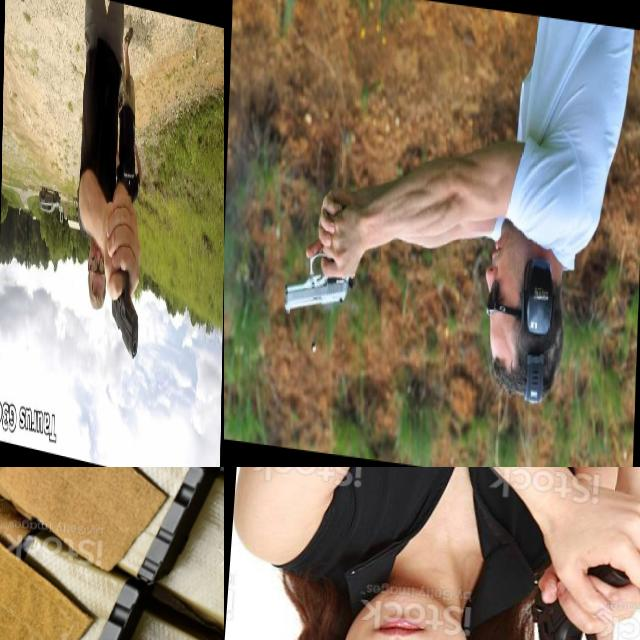handgun: (0, 467, 224, 640), (509, 543, 635, 640), (281, 189, 359, 325), (108, 249, 140, 363)
